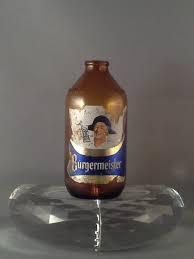Glass bottle: (52, 41, 136, 197)
